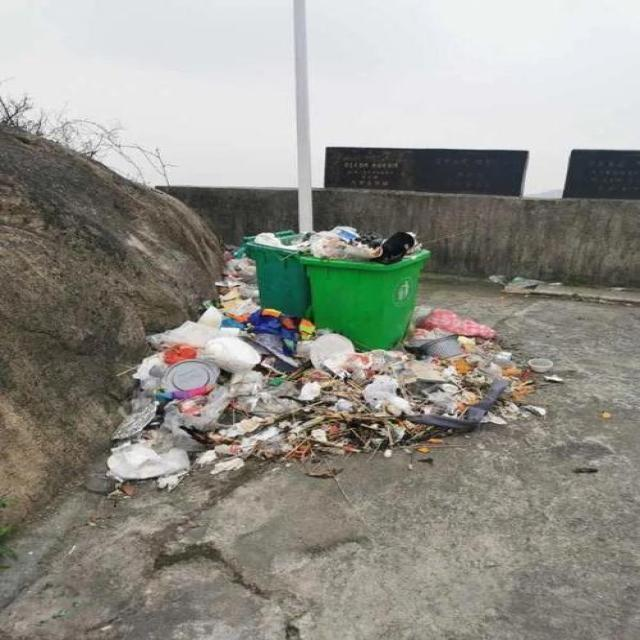garbage: (102, 248, 564, 488)
overflow: (296, 226, 430, 350), (236, 232, 310, 322)
